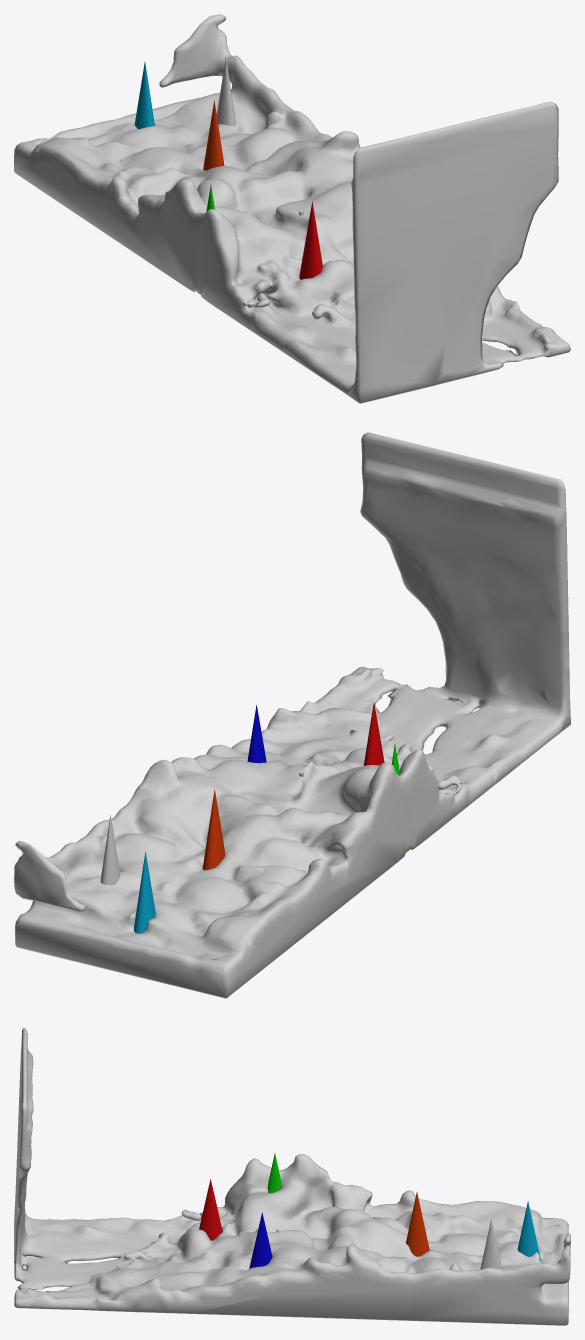
3 renders of one model, top to bottom at view 1: azimuth 30°, elevation 25°; view 2: azimuth 150°, elevation 25°; view 3: azimuth 270°, elevation 25°, orthographic. The views are drawn at different scales.
Visible parts, largest first — view 1: Liquid_Domain, 円錐.001, 円錐.004, 円錐, 円錐.005; view 2: Liquid_Domain, 円錐.004, 円錐.005, 円錐, 円錐.001; view 3: Liquid_Domain, 円錐.004, 円錐.001, 円錐.002, 円錐.005, 円錐.
Boxes of the visible parts, <box> form: Liquid_Domain: <box>14,14,570,403</box>; 円錐.001: <box>299,201,322,279</box>; 円錐.004: <box>203,100,224,170</box>; 円錐: <box>216,58,235,126</box>; 円錐.005: <box>134,61,154,129</box>; Liquid_Domain: <box>14,432,570,998</box>; 円錐.004: <box>202,789,225,870</box>; 円錐.005: <box>134,851,155,933</box>; 円錐: <box>100,814,120,885</box>; 円錐.001: <box>363,702,384,765</box>; Liquid_Domain: <box>14,1027,570,1325</box>; 円錐.004: <box>406,1192,429,1256</box>; 円錐.001: <box>199,1179,222,1240</box>; 円錐.002: <box>249,1212,272,1268</box>; 円錐.005: <box>517,1201,541,1261</box>; 円錐: <box>480,1219,502,1269</box>.
Size of the model in its own units: 129 by 157 by 363.
